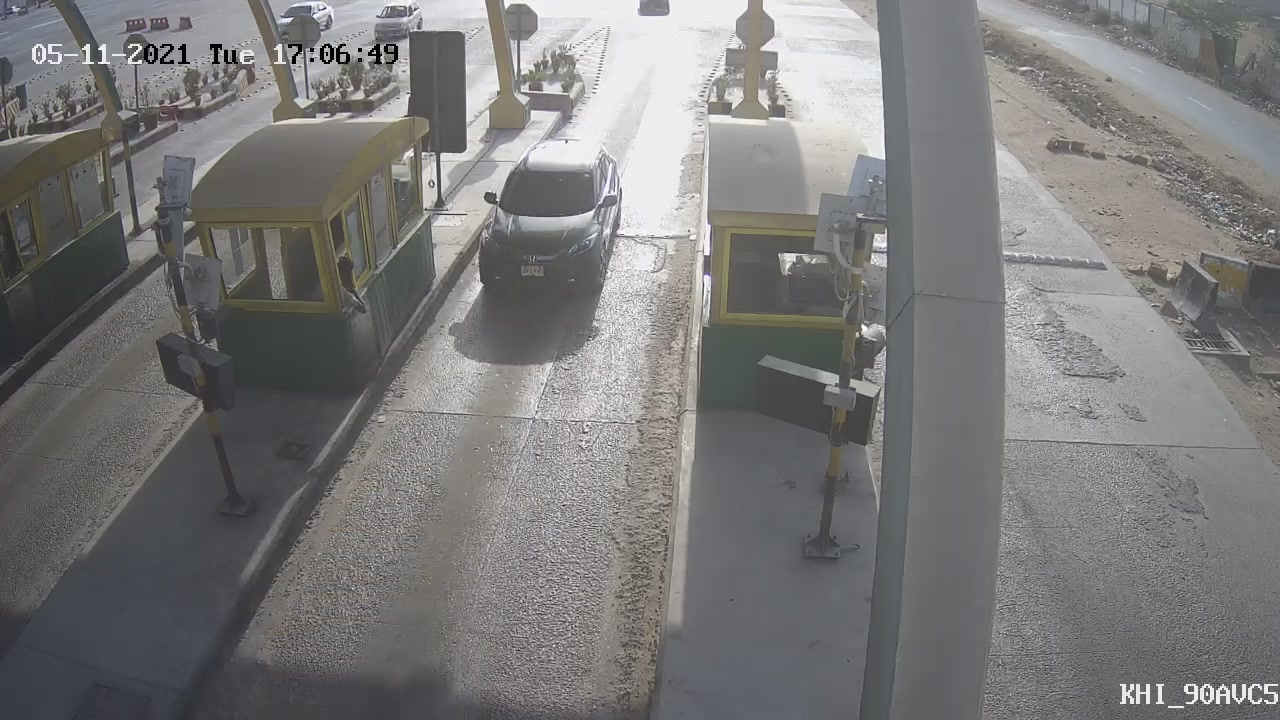F1: (460, 118, 635, 312)
